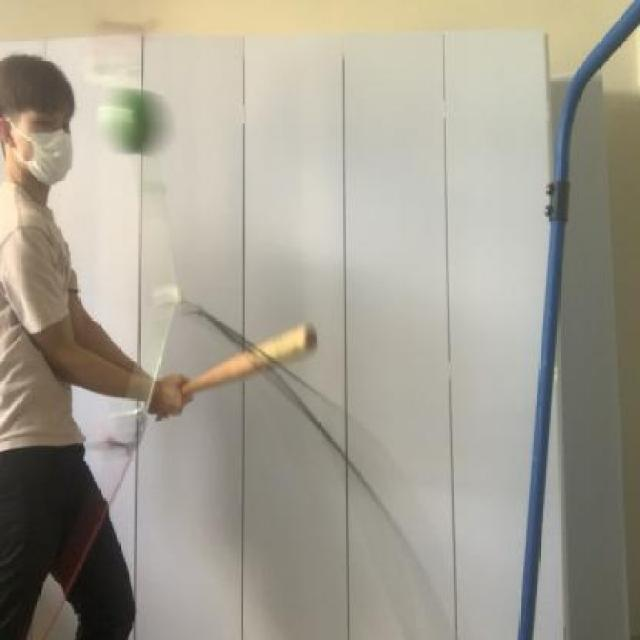baseball: (93, 69, 178, 171)
